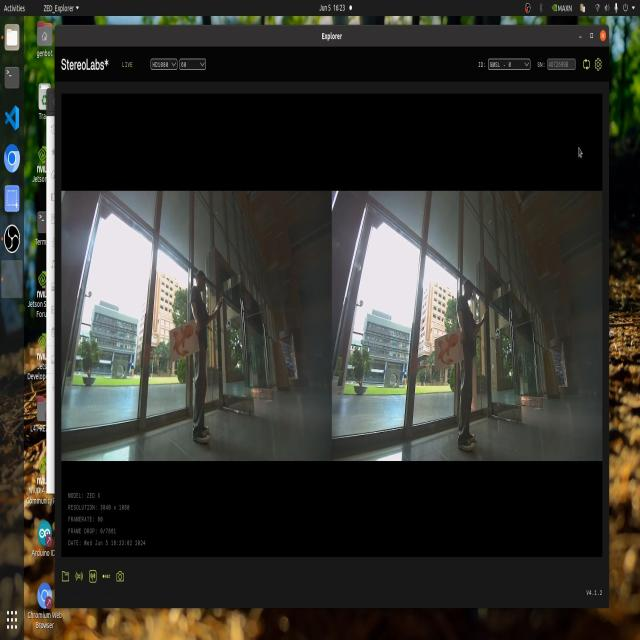red: (430, 326, 464, 372), (169, 326, 201, 373)
